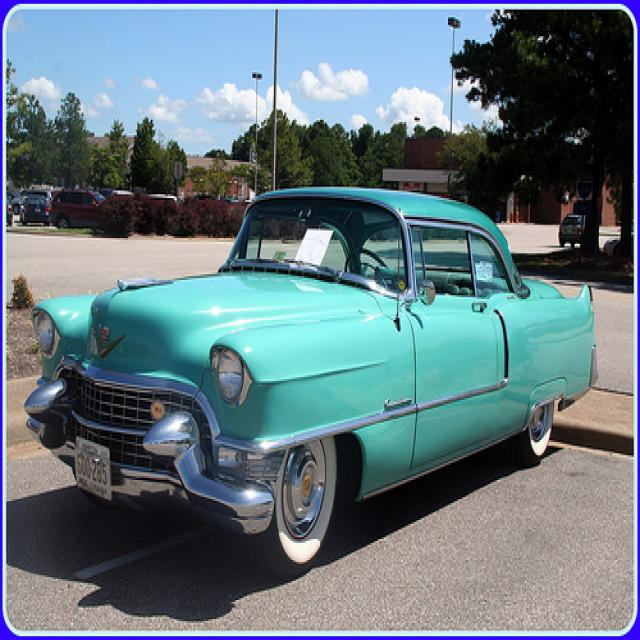Car: (21, 187, 600, 577)
